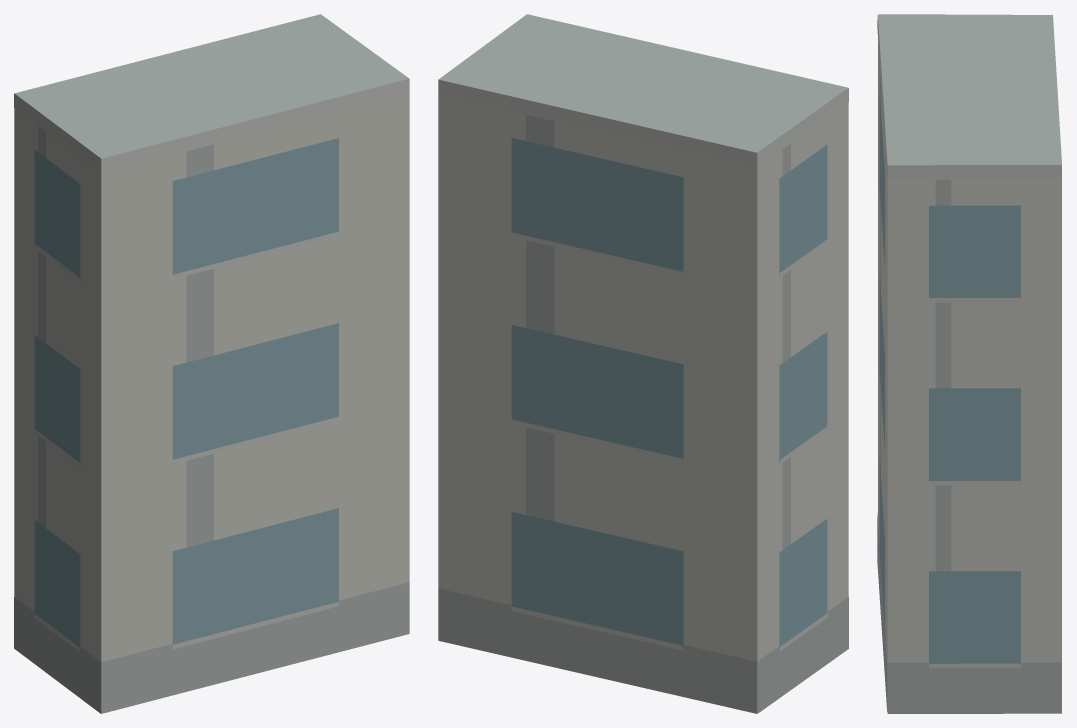
The model's file is survey-upis-32634194.glb.
The picture shows the model from 3 angles, left to right: view 1: azimuth 30°, elevation 25°; view 2: azimuth 150°, elevation 25°; view 3: azimuth 270°, elevation 25°; orthographic projection. The views are drawn at different scales.
Visible parts, largest first — view 1: survey-upis-32634194.tmp; view 2: survey-upis-32634194.tmp; view 3: survey-upis-32634194.tmp.
Part boxes in pixels (x1,y1,x2,y2): survey-upis-32634194.tmp: [14, 14, 409, 713]; survey-upis-32634194.tmp: [438, 14, 848, 713]; survey-upis-32634194.tmp: [877, 14, 1061, 713].
Bounding box in the file's own units: 5.42 × 9.15 × 2.8.
